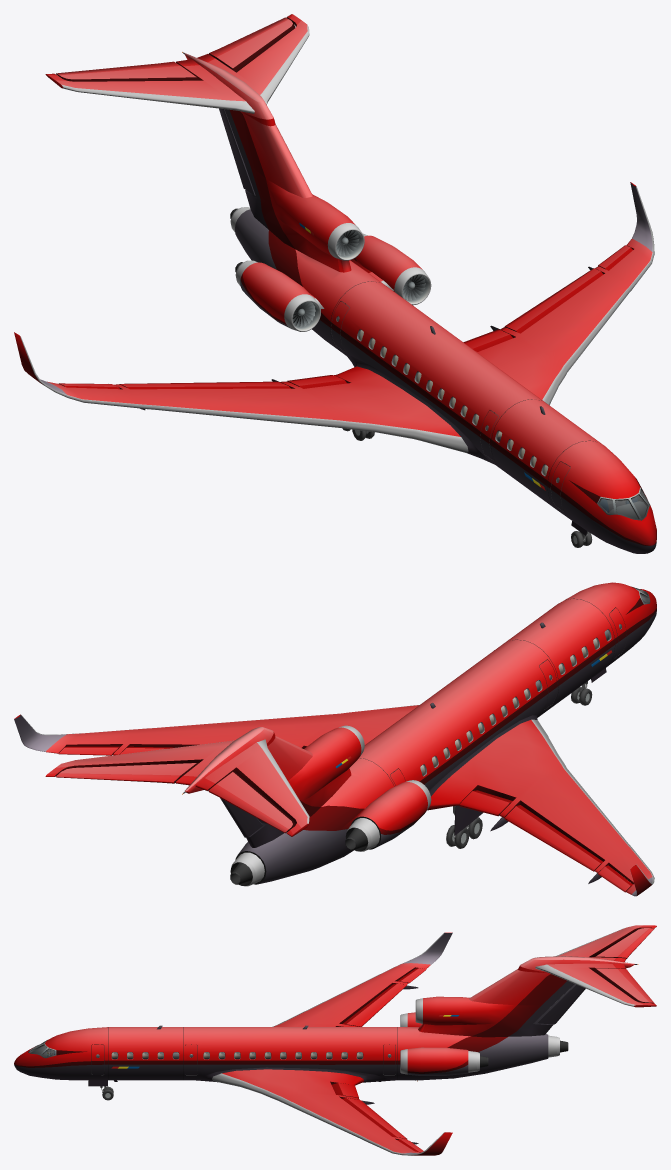
The picture shows the model from 3 angles, top to bottom: view 1: azimuth 30°, elevation 25°; view 2: azimuth 150°, elevation 25°; view 3: azimuth 270°, elevation 25°; orthographic projection. The views are drawn at different scales.
Parts seen in each view (by area): view 1: TP_Plane_06A_Fuselage, TP_Plane_06A_Elevator.R, TP_Plane_06A_Elevator.L, TP_Plane_06A_Flap_Ext.L, TP_Plane_06A_Flap_Ext.R; view 2: TP_Plane_06A_Fuselage, TP_Plane_06A_Elevator.R, TP_Plane_06A_Elevator.L, TP_Plane_06A_Flap_Ext.R, TP_Plane_06A_Flap_Int.R, TP_Plane_06A_Rudder, TP_Plane_06A_Wheels_R.R, TP_Plane_06A_Aileron.L, TP_Plane_06A_Door_M.R, TP_Plane_06A_Hatch_Ext_R.R; view 3: TP_Plane_06A_Fuselage, TP_Plane_06A_Elevator.L, TP_Plane_06A_Flap_Ext.R, TP_Plane_06A_Elevator.R, TP_Plane_06A_Rudder, TP_Plane_06A_Flap_Ext.L, TP_Plane_06A_Door_F.L, TP_Plane_06A_Door_M.L, TP_Plane_06A_Door_R.L.
Boxes of the visible parts, x1,y1,x2,y2 form: TP_Plane_06A_Fuselage: [14, 14, 656, 553]; TP_Plane_06A_Elevator.R: [56, 61, 199, 81]; TP_Plane_06A_Elevator.L: [209, 17, 295, 72]; TP_Plane_06A_Flap_Ext.L: [504, 268, 603, 333]; TP_Plane_06A_Flap_Ext.R: [119, 381, 290, 389]; TP_Plane_06A_Fuselage: [14, 582, 656, 896]; TP_Plane_06A_Elevator.R: [208, 771, 295, 833]; TP_Plane_06A_Elevator.L: [56, 763, 198, 783]; TP_Plane_06A_Flap_Ext.R: [504, 805, 602, 871]; TP_Plane_06A_Flap_Int.R: [459, 790, 512, 816]; TP_Plane_06A_Rudder: [220, 798, 262, 837]; TP_Plane_06A_Wheels_R.R: [446, 817, 482, 848]; TP_Plane_06A_Aileron.L: [58, 746, 120, 755]; TP_Plane_06A_Door_M.R: [539, 660, 557, 709]; TP_Plane_06A_Hatch_Ext_R.R: [454, 805, 483, 835]; TP_Plane_06A_Fuselage: [14, 925, 656, 1155]; TP_Plane_06A_Elevator.L: [591, 968, 653, 1003]; TP_Plane_06A_Flap_Ext.R: [342, 983, 406, 1026]; TP_Plane_06A_Elevator.R: [593, 928, 654, 959]; TP_Plane_06A_Rudder: [535, 984, 585, 1024]; TP_Plane_06A_Flap_Ext.L: [342, 1098, 406, 1138]; TP_Plane_06A_Door_F.L: [91, 1044, 104, 1074]; TP_Plane_06A_Door_M.L: [185, 1044, 197, 1074]; TP_Plane_06A_Door_R.L: [383, 1044, 395, 1074].
Bounding box in the file's own units: 30.9 × 10.21 × 41.98.
Materials: 2 (2 with a texture image).
